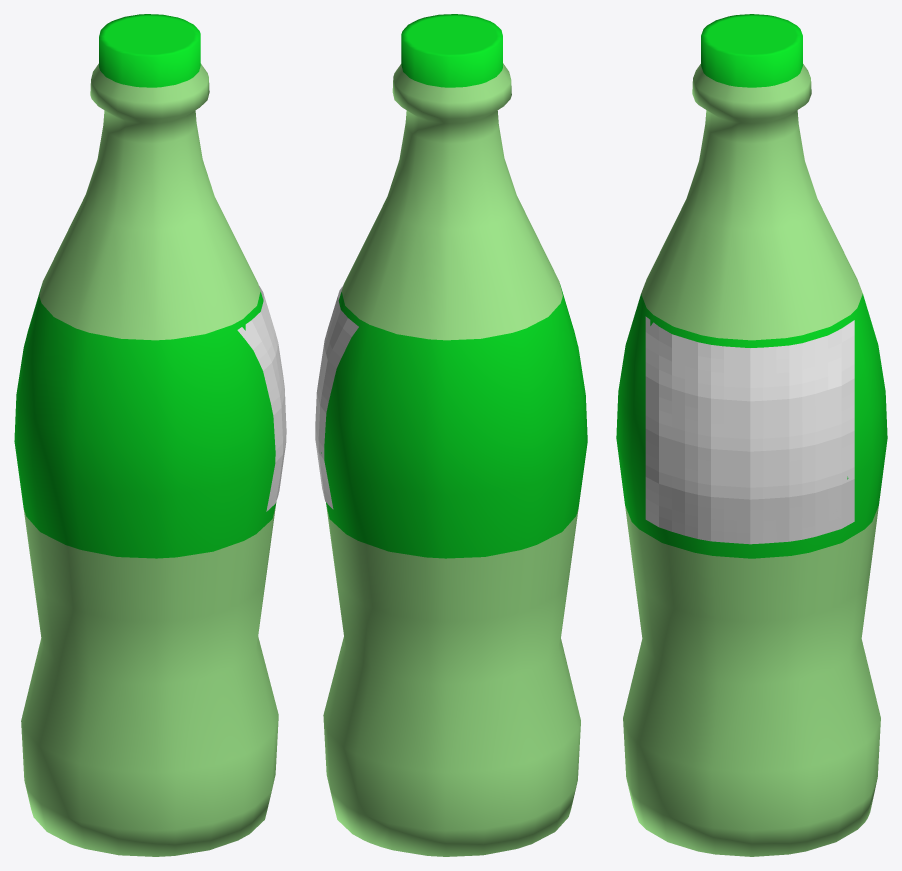
Rendered from Botella de refresco de vidrio 2 - copia.fbx.
3 views of the same model, side by side, from view 1: azimuth 30°, elevation 25°; view 2: azimuth 150°, elevation 25°; view 3: azimuth 270°, elevation 25° (orthographic).
Visible parts, largest first — view 1: Plane, Marcas Piratas-08; view 2: Plane, Marcas Piratas-08; view 3: Plane, Marcas Piratas-08.
Part boxes in pixels (left/top/right/bottom): Plane: left=14, top=14, right=278, bottom=856; Marcas Piratas-08: left=237, top=286, right=286, bottom=511; Plane: left=321, top=14, right=587, bottom=856; Marcas Piratas-08: left=315, top=286, right=358, bottom=509; Plane: left=616, top=14, right=887, bottom=856; Marcas Piratas-08: left=645, top=316, right=854, bottom=544.
Bounding box in the file's own units: 418 × 1301 × 415.
